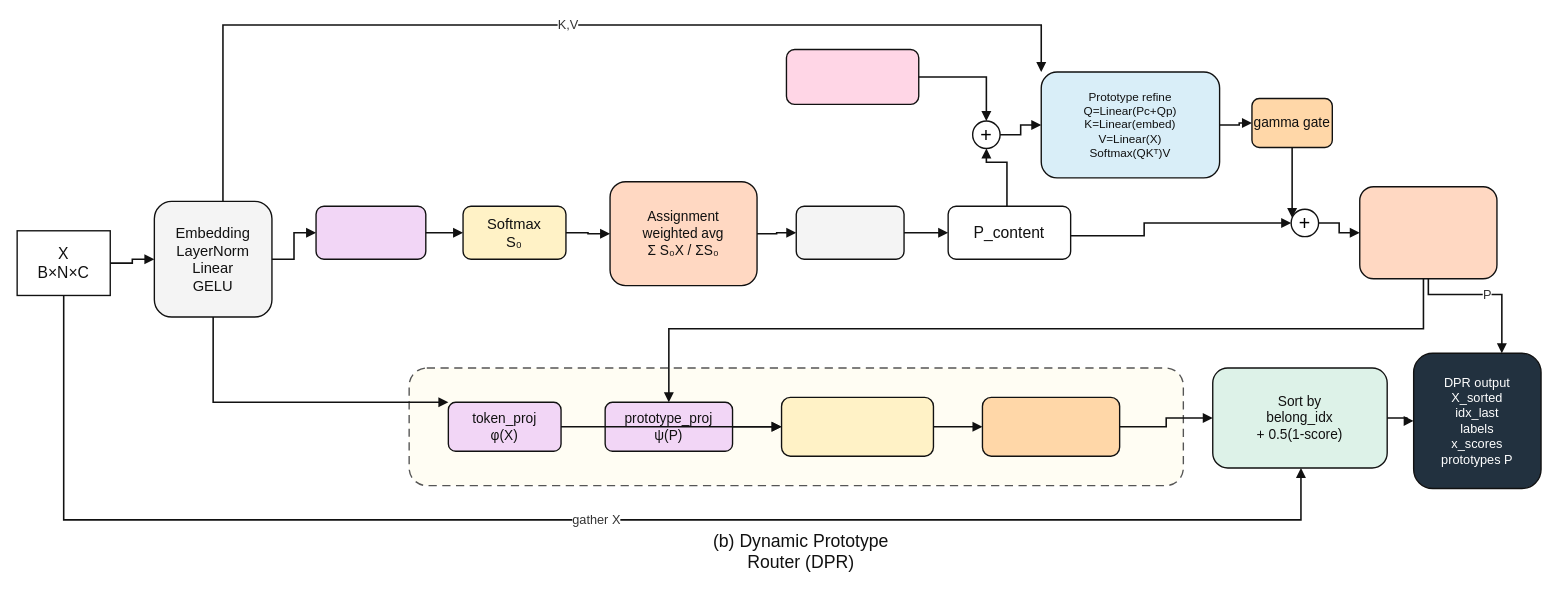
The diagram is 1559 pixels wide and 590 high, and some of its shapes have lost their labels. The centre of each missing label's shape, as x and y in pixels:
"argmax / max belong_idx x_scores" goes at (x=1050, y=426).
"LayerNorm L2Norm" goes at (x=849, y=232).
"Learnable prototype query" goes at (x=852, y=76).
"Linear assign" goes at (x=370, y=232).
"Prototypes P LayerNorm L2Norm" goes at (x=1428, y=232).
"Softmax φ(X)ψ(P)ᵀ" goes at (x=857, y=426).
